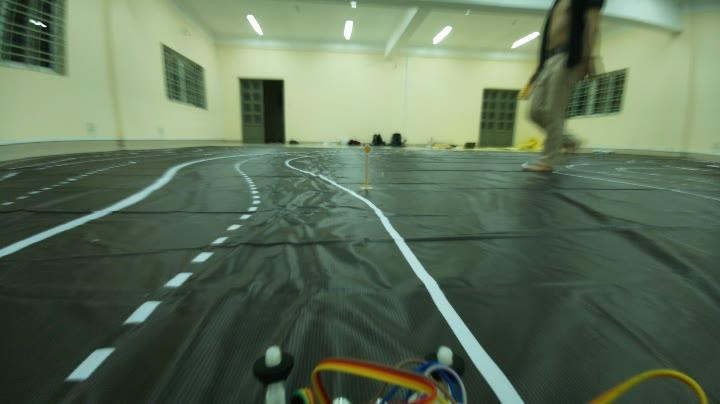priority: (361, 140, 377, 156)
